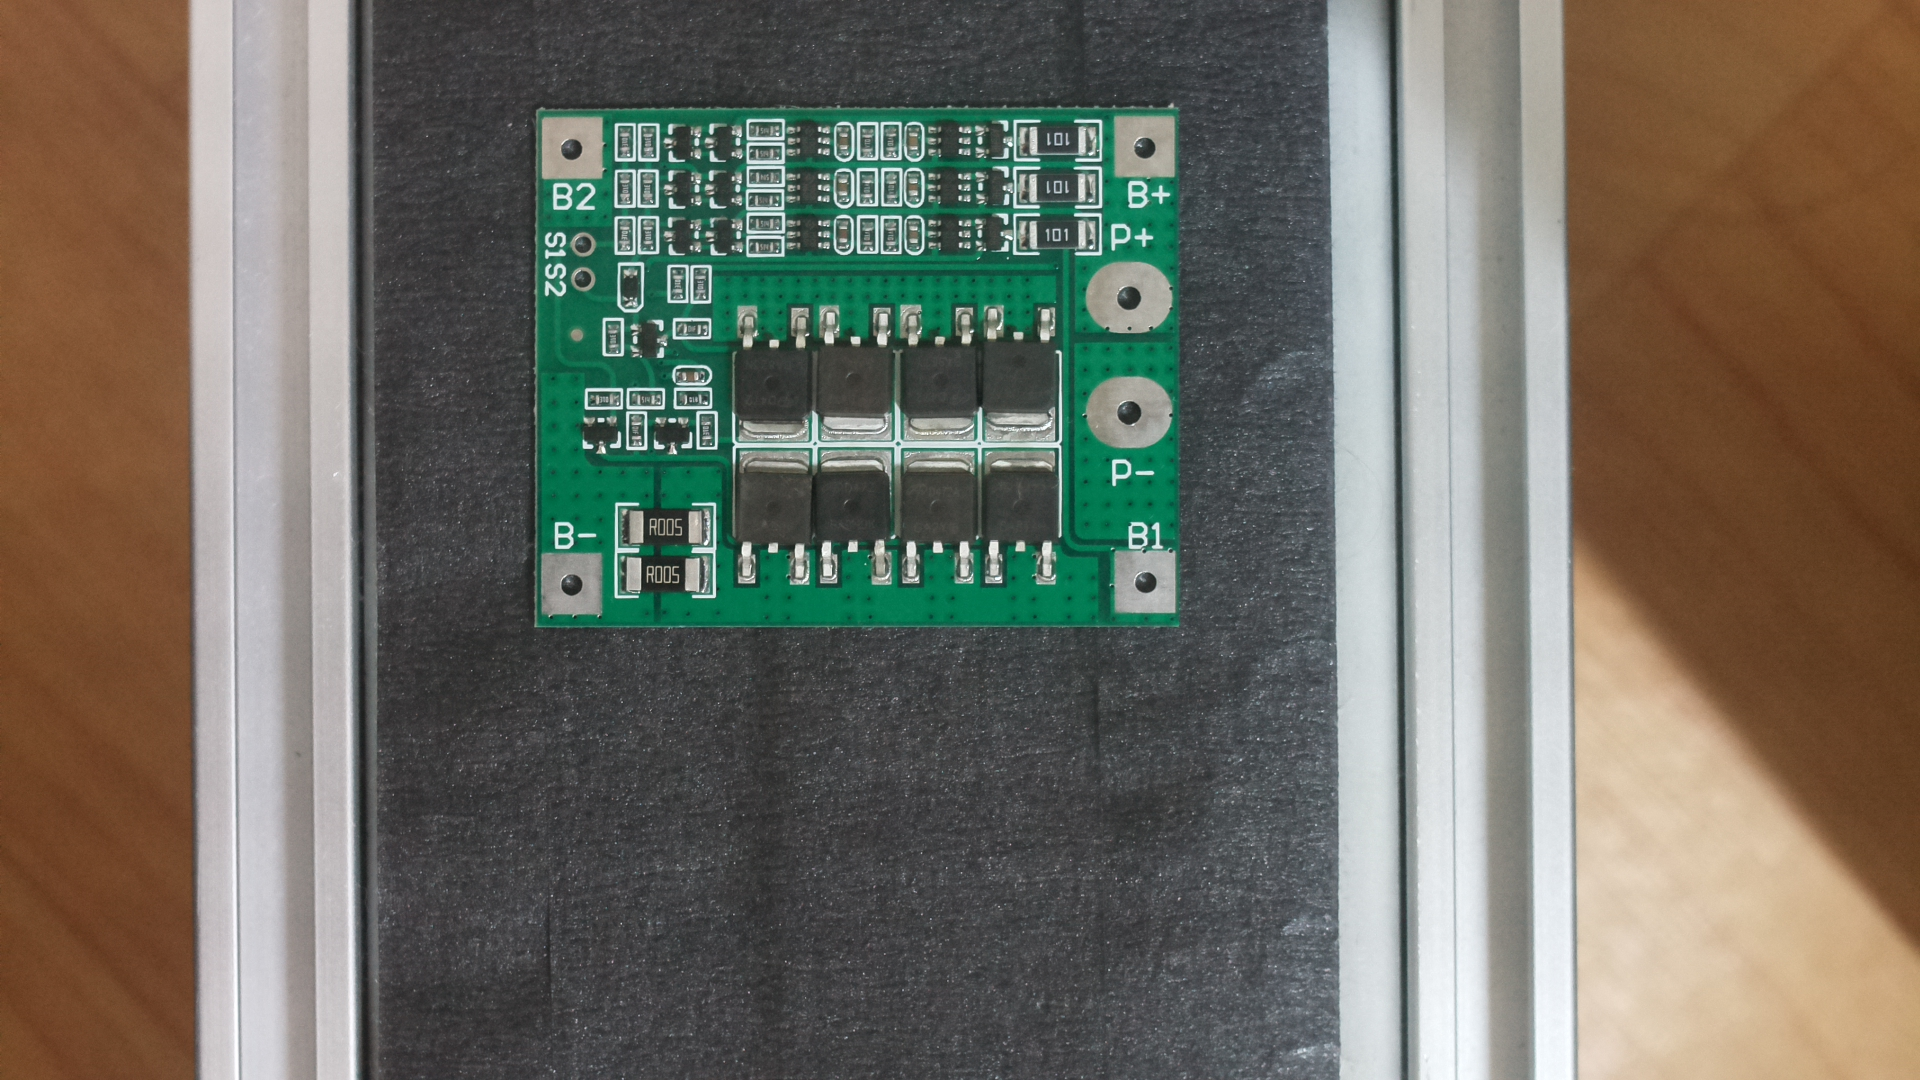C_Normal: (520, 98, 1207, 662)
